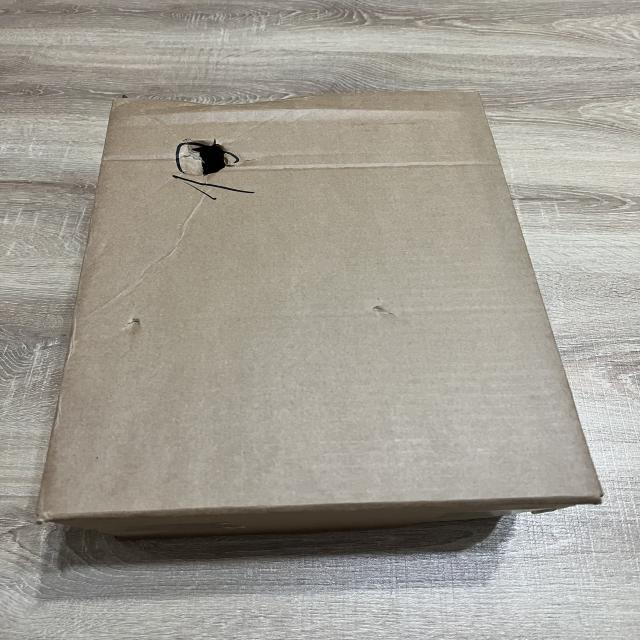damaged: (27, 74, 603, 529), (169, 129, 250, 198)
